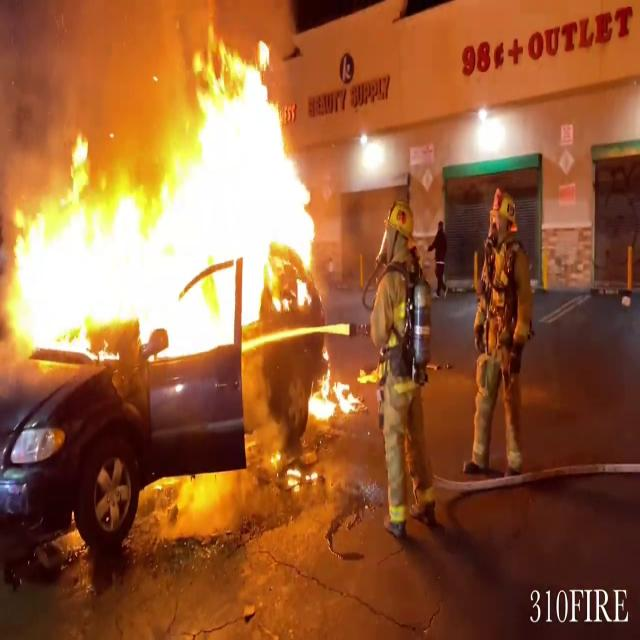Fire: (1, 16, 326, 363), (301, 344, 364, 423)
